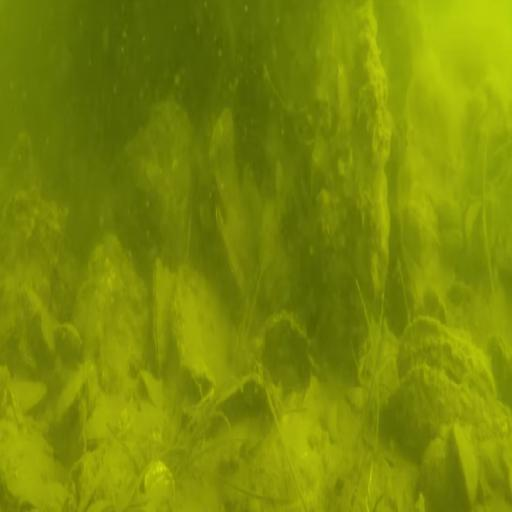Oyster-Closed: (375, 370, 512, 503), (396, 318, 494, 403), (172, 267, 237, 391), (261, 309, 314, 394), (151, 250, 173, 389)
